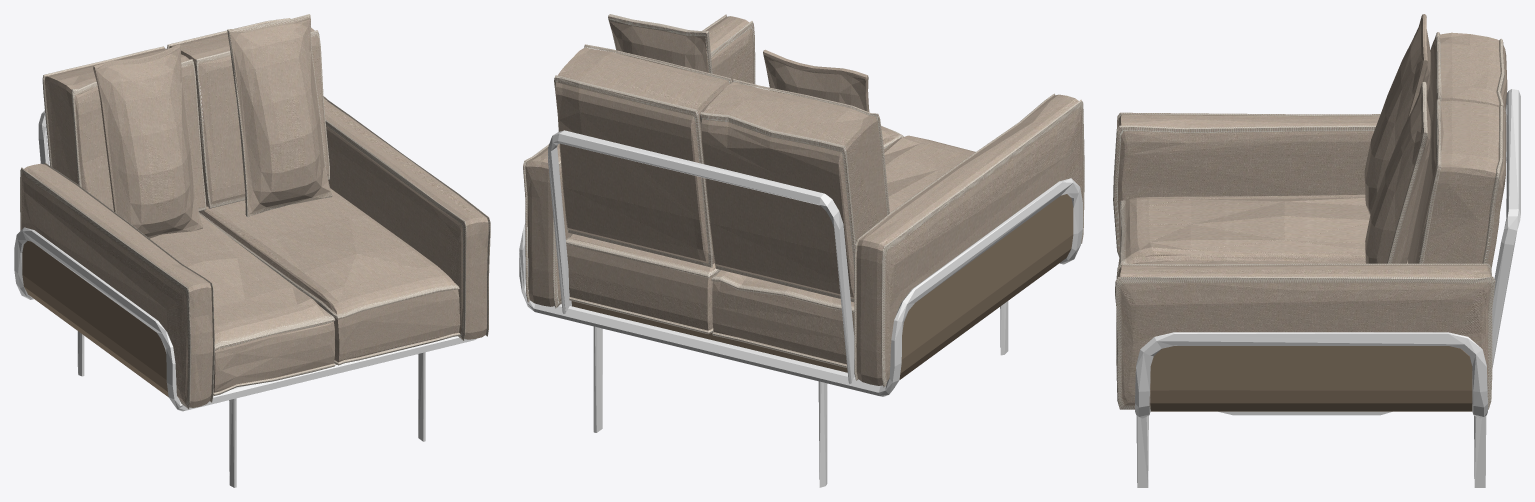
Rendered from sh-scopia-sofa-white-beige.glb.
The picture shows the model from 3 angles, left to right: view 1: azimuth 30°, elevation 25°; view 2: azimuth 150°, elevation 25°; view 3: azimuth 270°, elevation 25°; orthographic projection. The views are drawn at different scales.
Parts seen in each view (by area): view 1: cushion.001_Cube.006, cover_Cylinder.001, structure_Cylinder; view 2: cushion.001_Cube.006, structure_Cylinder, cover_Cylinder.001; view 3: cushion.001_Cube.006, cover_Cylinder.001, structure_Cylinder.
Boxes of the visible parts, box(x1,y1,x2,y2) form: cushion.001_Cube.006: box(20, 14, 490, 409); cover_Cylinder.001: box(22, 241, 168, 397); structure_Cylinder: box(14, 110, 476, 487); cushion.001_Cube.006: box(523, 14, 1084, 387); structure_Cylinder: box(519, 130, 1082, 487); cover_Cylinder.001: box(571, 194, 1073, 379); cushion.001_Cube.006: box(1113, 14, 1507, 409); cover_Cylinder.001: box(1150, 346, 1472, 411); structure_Cylinder: box(1135, 89, 1520, 487).
Bounding box in the file's own units: 1 × 1 × 1.
Materials: 4 (2 with a texture image).
